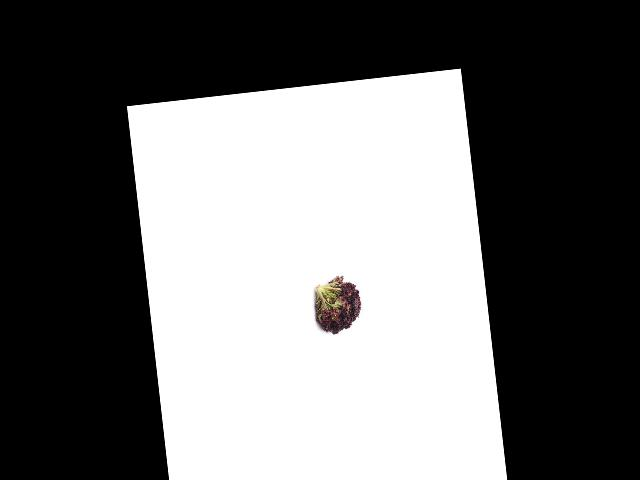lettuce: (308, 276, 366, 339)
